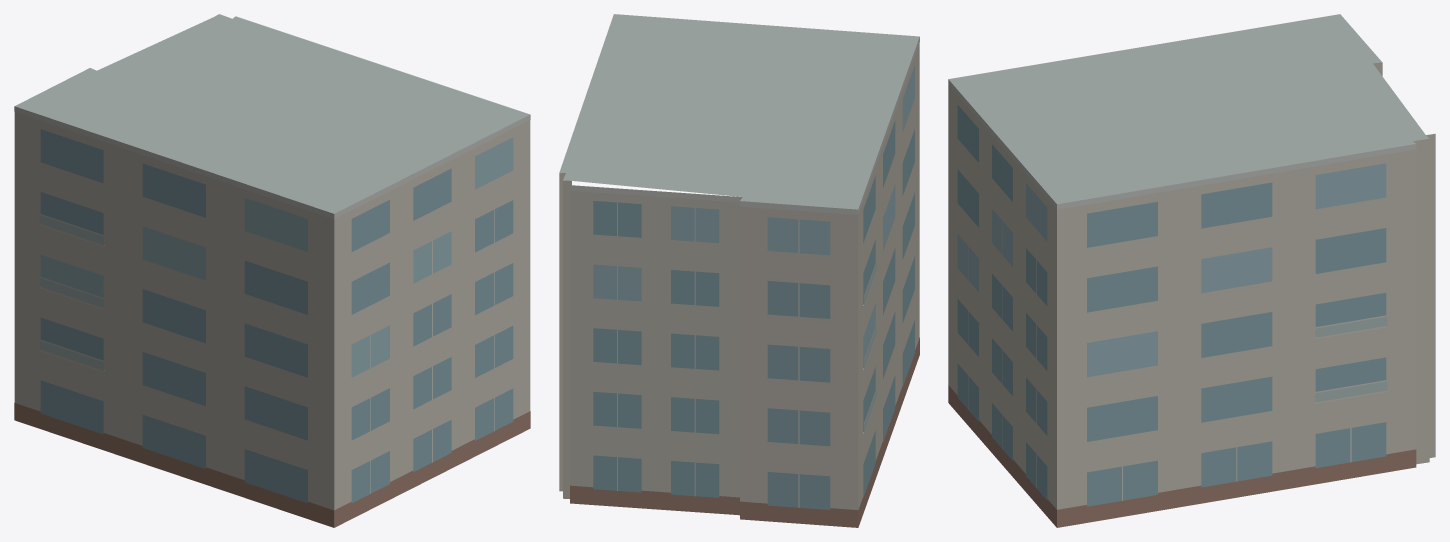
File: survey-upis-33039526.glb
3 views of the same model, side by side, from view 1: azimuth 30°, elevation 25°; view 2: azimuth 150°, elevation 25°; view 3: azimuth 270°, elevation 25° (orthographic). The views are drawn at different scales.
Visible parts, largest first — view 1: survey-upis-33039526.tmp; view 2: survey-upis-33039526.tmp; view 3: survey-upis-33039526.tmp.
Boxes of the visible parts, x1=… form: survey-upis-33039526.tmp: x1=14, y1=14, x2=530, y2=527; survey-upis-33039526.tmp: x1=559, y1=14, x2=919, y2=527; survey-upis-33039526.tmp: x1=948, y1=14, x2=1435, y2=527.
Bounding box in the file's own units: 17.8 × 14.1 × 19.26.
